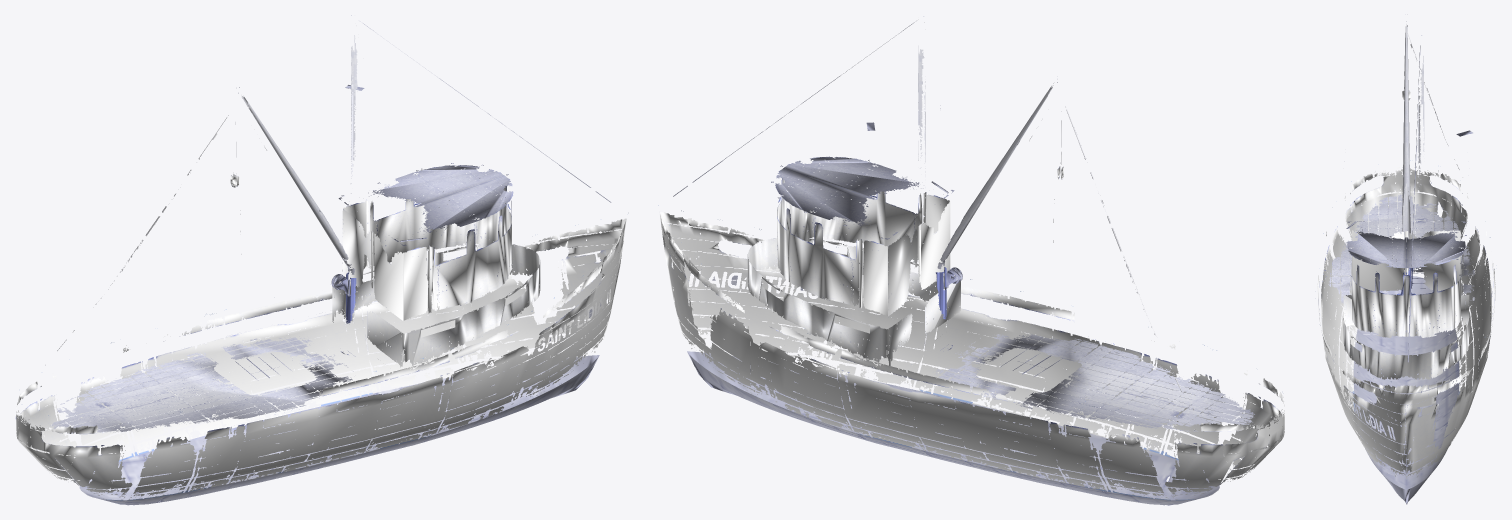
The model's file is fishing boat.fbx.
The picture shows the model from 3 angles, left to right: view 1: azimuth 30°, elevation 25°; view 2: azimuth 150°, elevation 25°; view 3: azimuth 270°, elevation 25°; orthographic projection. The views are drawn at different scales.
Parts seen in each view (by area): view 1: boat_fishing_02; view 2: boat_fishing_02; view 3: boat_fishing_02.
Part boxes in pixels (x1=…): boat_fishing_02: x1=15, y1=15, x2=626, y2=505; boat_fishing_02: x1=658, y1=16, x2=1284, y2=505; boat_fishing_02: x1=1317, y1=21, x2=1495, y2=504.
Size of the model in its own units: 3687 by 2486 by 1076.
